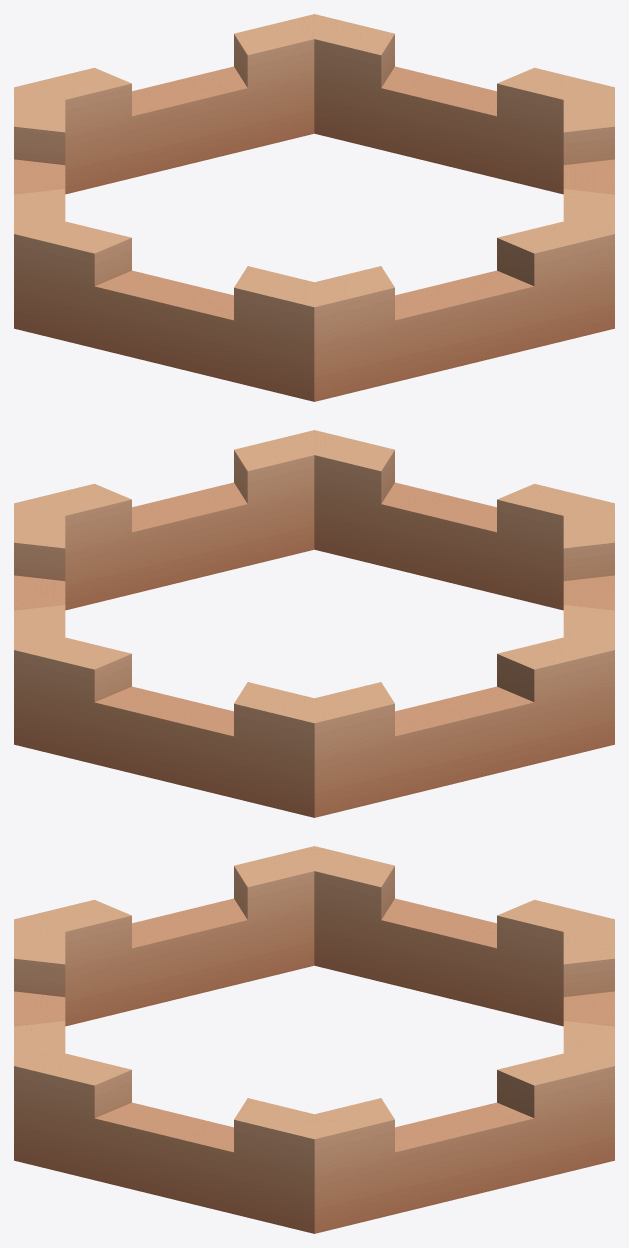
File: tower-hexagon-top.glb
3 renders of one model, top to bottom at view 1: azimuth 30°, elevation 25°; view 2: azimuth 150°, elevation 25°; view 3: azimuth 270°, elevation 25°, orthographic.
Parts seen in each view (by area): view 1: tower-hexagon-top; view 2: tower-hexagon-top; view 3: tower-hexagon-top.
Boxes of the visible parts, x1=… form: tower-hexagon-top: x1=14, y1=14, x2=614, y2=401; tower-hexagon-top: x1=14, y1=430, x2=614, y2=817; tower-hexagon-top: x1=14, y1=846, x2=614, y2=1233.
Size of the model in its own units: 0.864 by 0.13 by 0.7482.
1 material, 1 textured.
